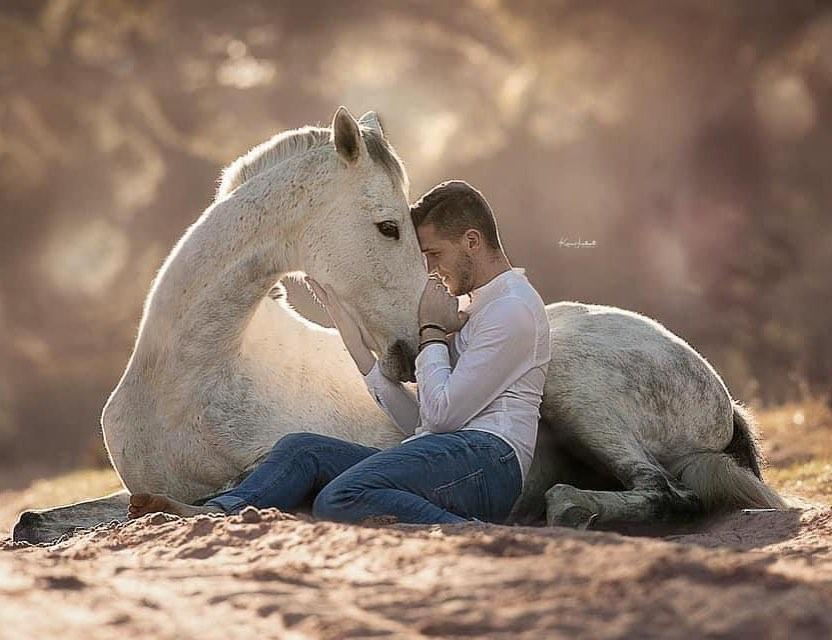horse: (98, 105, 792, 530)
